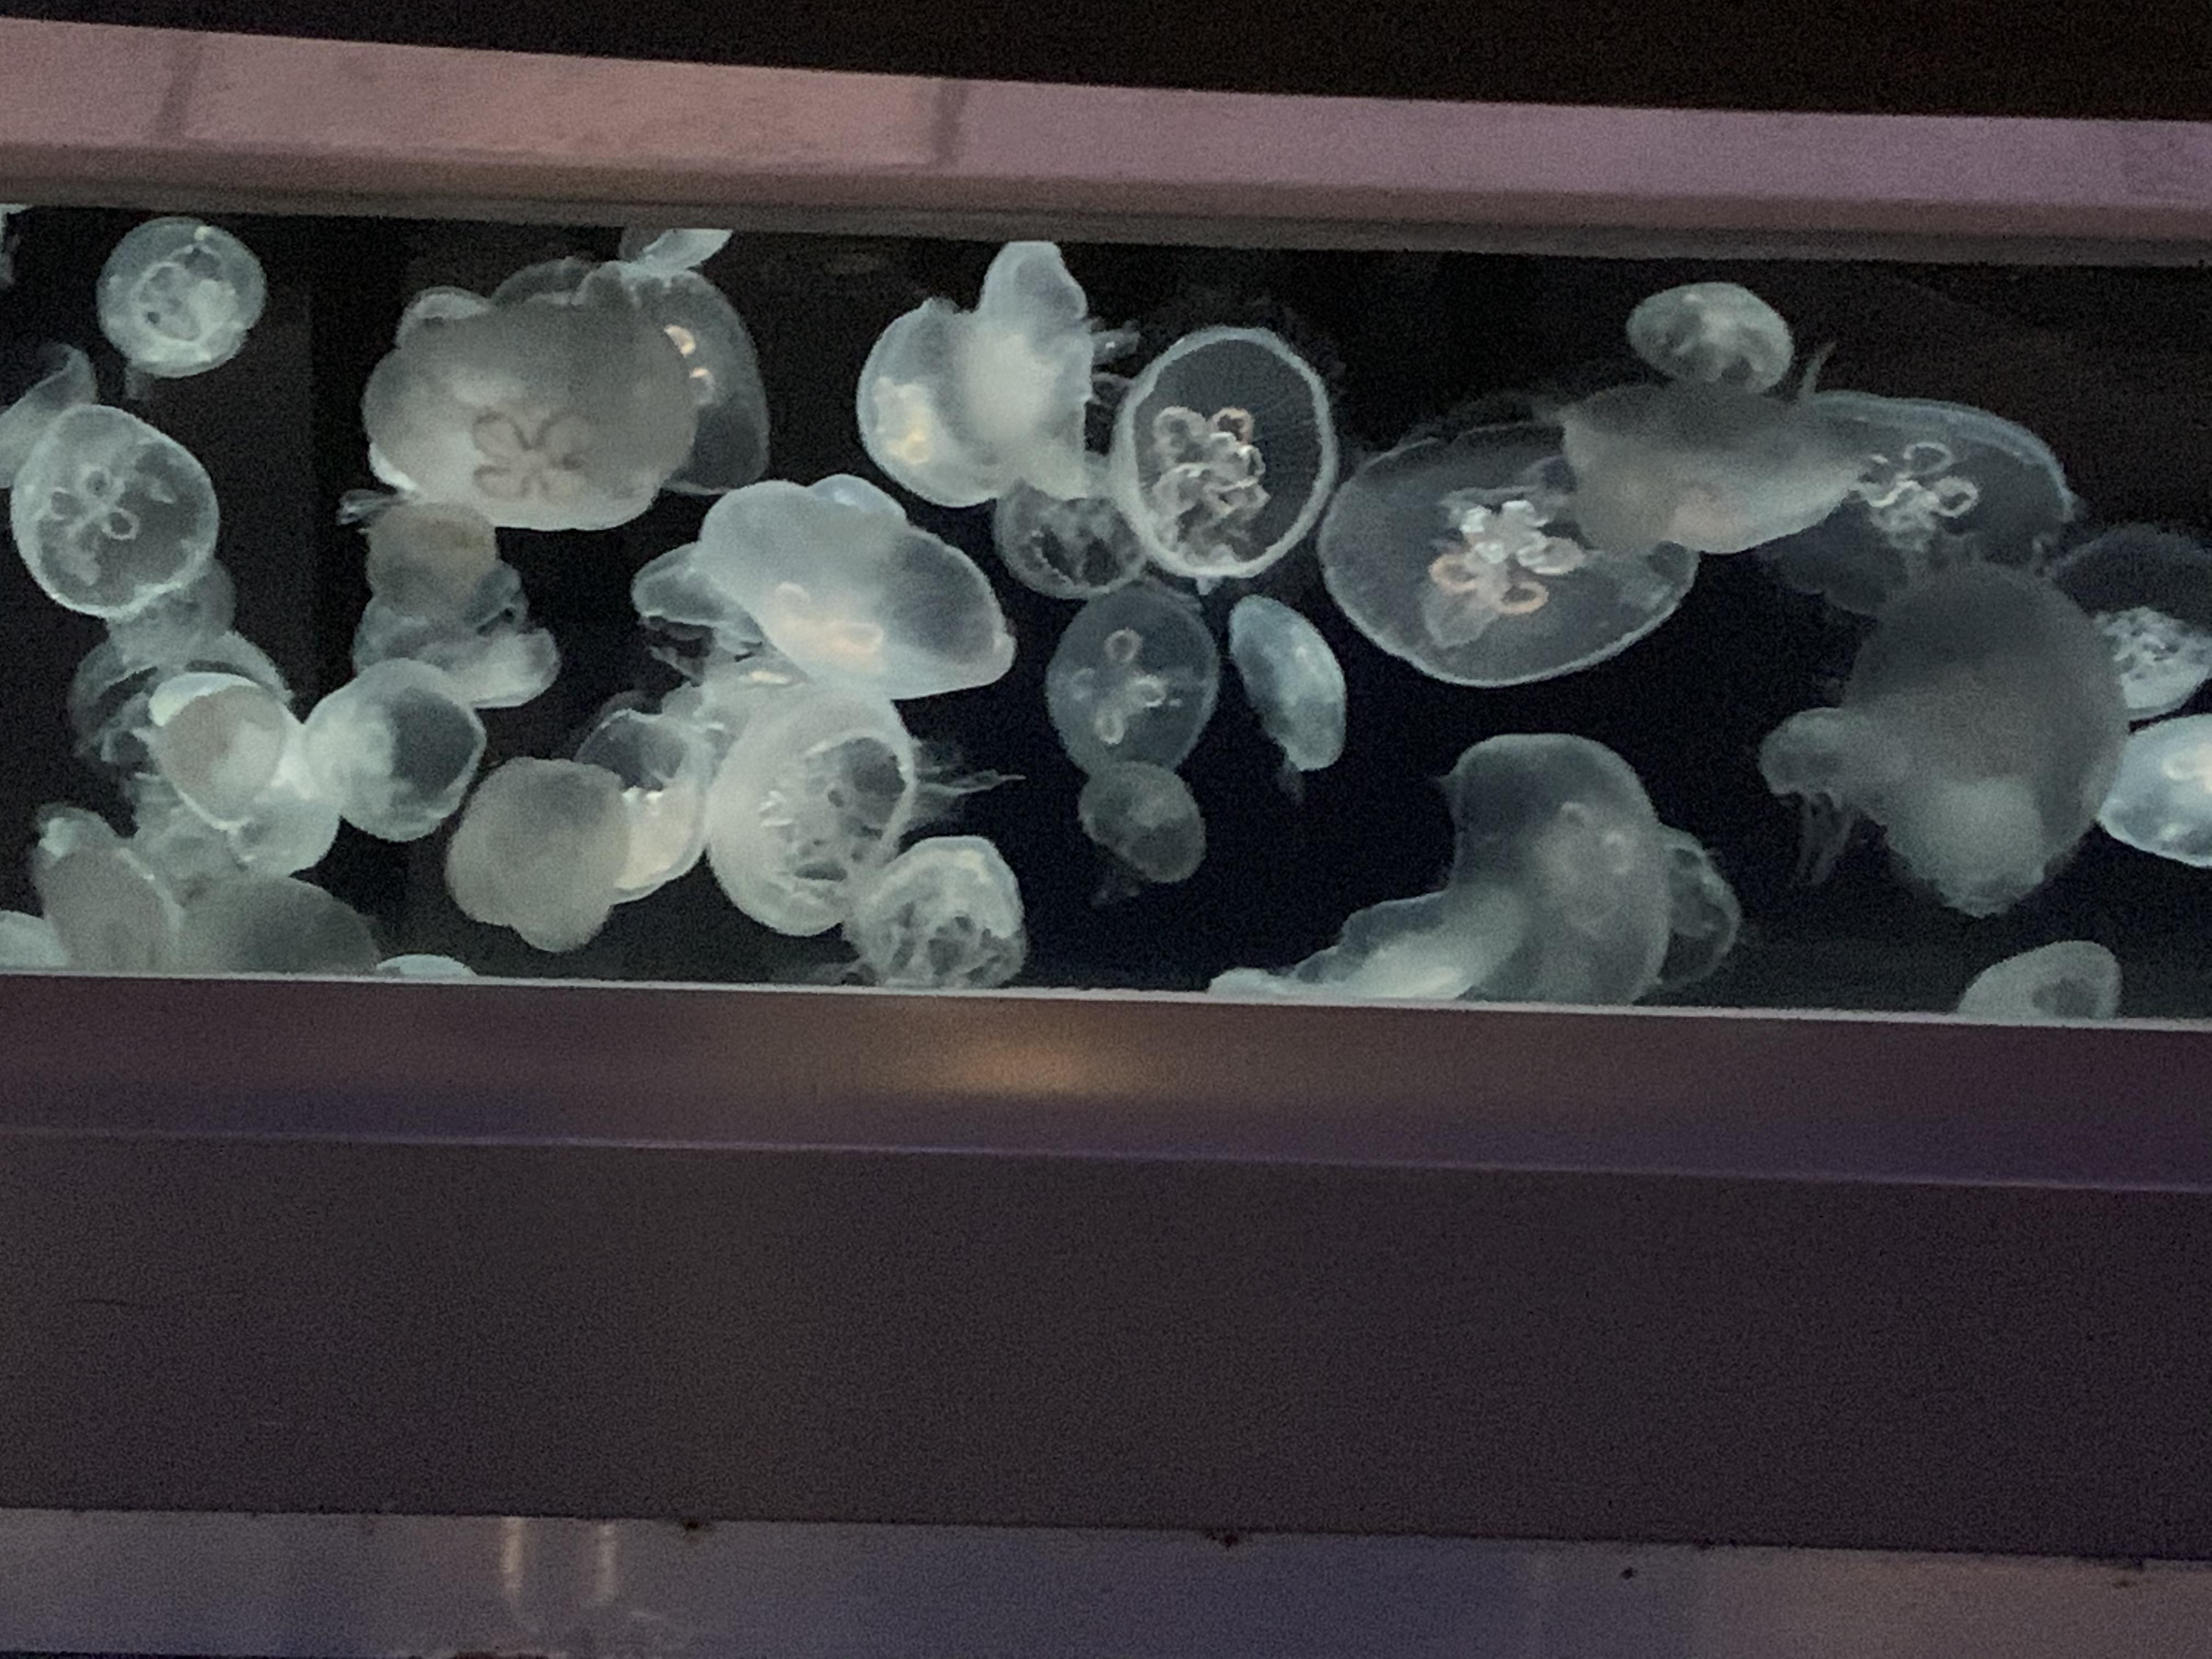jellyfish: (1341, 695, 1719, 1025), (1308, 399, 1714, 706), (1764, 566, 2111, 896), (350, 260, 709, 544), (658, 450, 1019, 720), (1099, 310, 1360, 596), (846, 239, 1109, 516), (531, 228, 792, 500), (1778, 366, 2074, 598), (77, 610, 336, 873), (693, 664, 930, 913), (1554, 361, 1846, 558), (221, 655, 486, 857), (449, 744, 681, 957), (336, 498, 566, 711), (1207, 889, 1529, 1026), (10, 387, 204, 615), (52, 523, 284, 701), (165, 833, 395, 1007), (563, 695, 728, 929), (975, 425, 1165, 605), (1212, 598, 1381, 795), (843, 826, 1028, 1002), (2043, 514, 2212, 704), (1038, 580, 1211, 765), (33, 798, 212, 972), (91, 223, 266, 378), (1951, 901, 2139, 1032), (1069, 756, 1221, 899), (1623, 281, 1796, 397), (2102, 694, 2212, 875)
